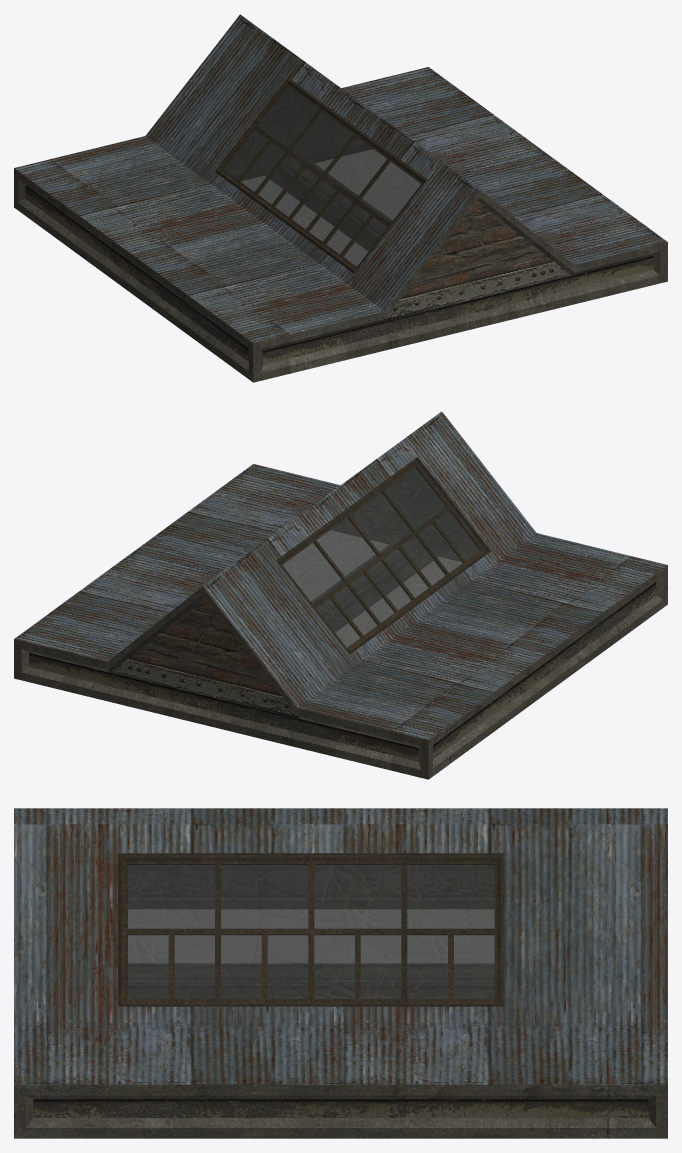
File: roof_bx_1_corner_1.obj
3 views of the same model, one above another, from view 1: azimuth 30°, elevation 25°; view 2: azimuth 150°, elevation 25°; view 3: azimuth 270°, elevation 25° (orthographic). The views are drawn at different scales.
Parts seen in each view (by area): view 1: roof_bx_1_corner_1; view 2: roof_bx_1_corner_1; view 3: roof_bx_1_corner_1.
Part boxes in pixels (x1,y1,x2,y2): roof_bx_1_corner_1: (14,14,667,382); roof_bx_1_corner_1: (14,411,667,779); roof_bx_1_corner_1: (14,808,667,1138).
Bounding box in the file's own units: 4.4 × 1.4 × 4.4.
